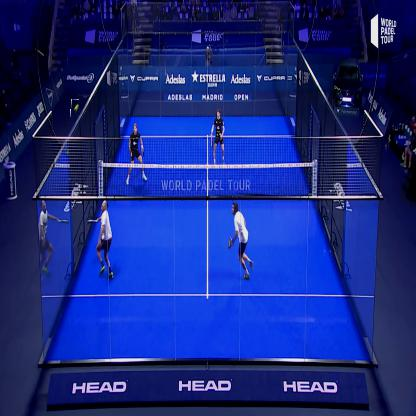ball: (71, 99, 80, 118)
